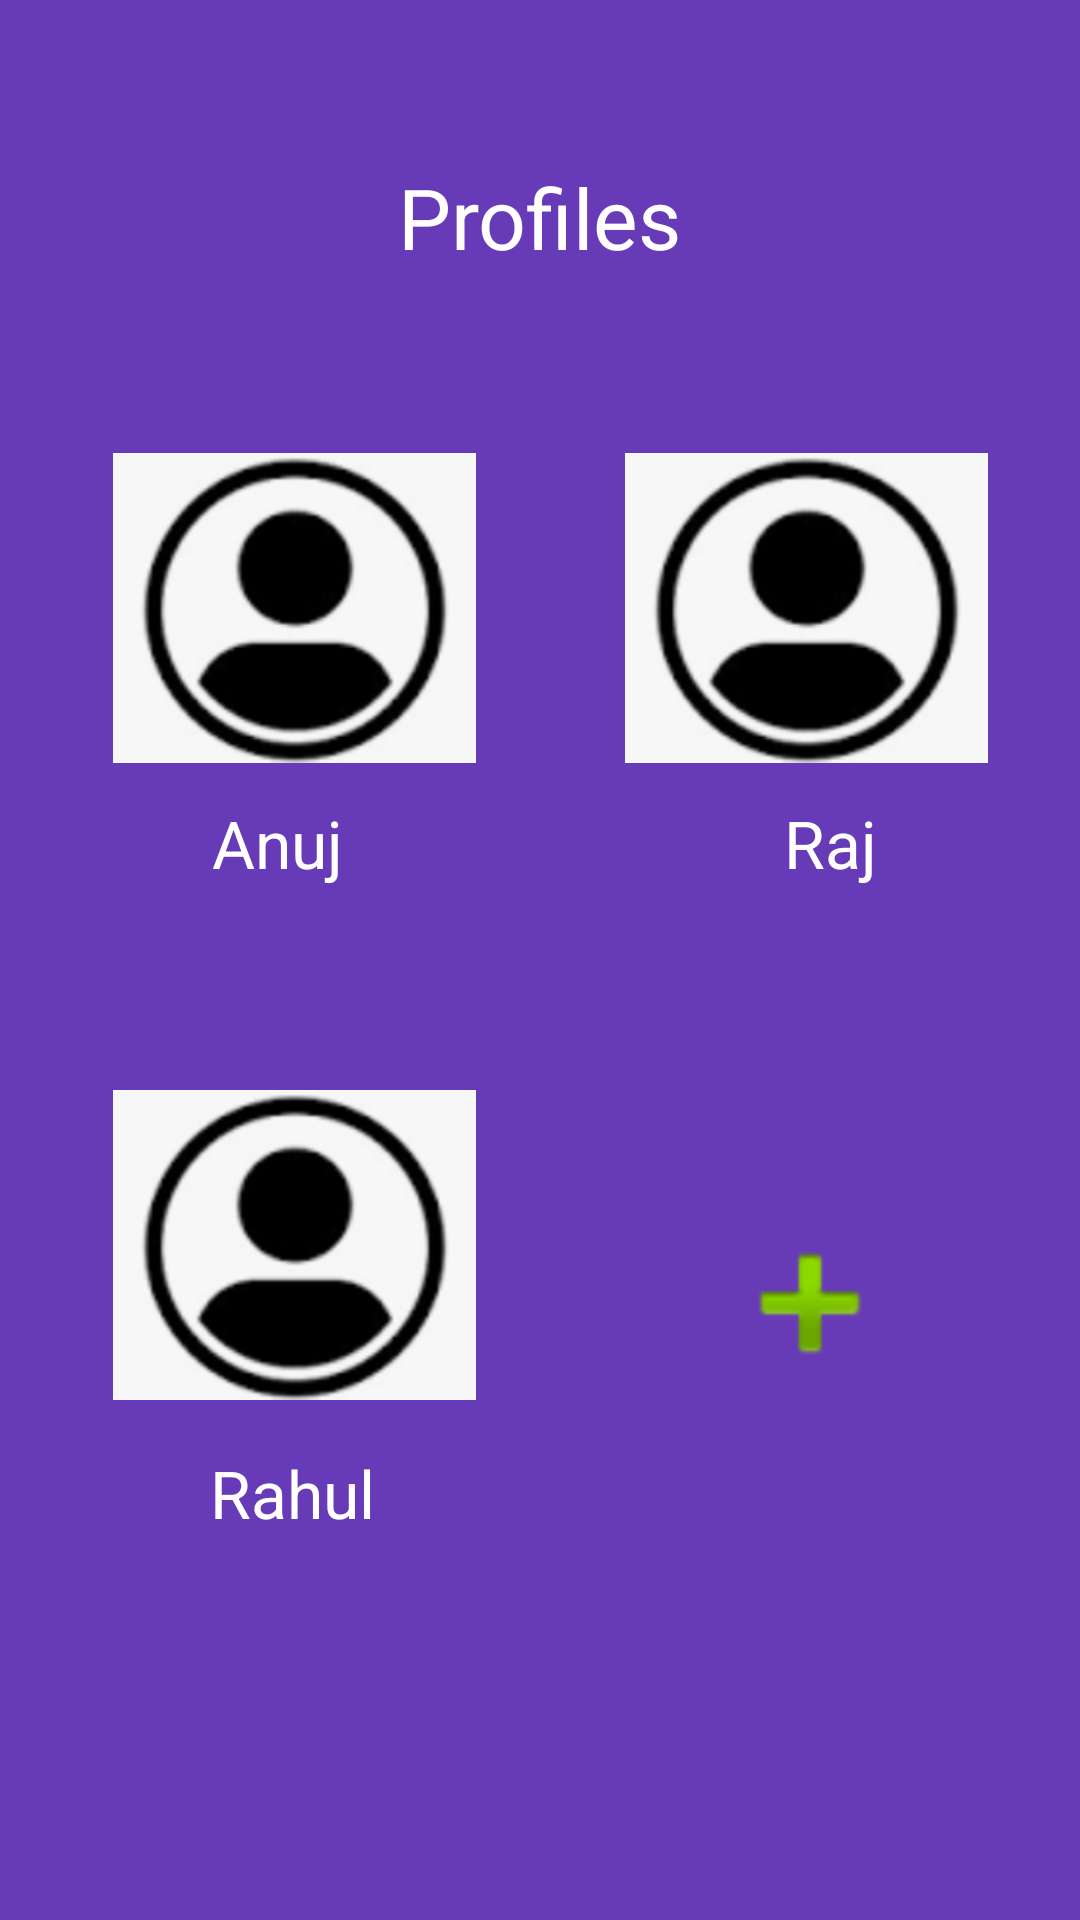

Where to tap for icons on this 1080 × 1920 app screen, as [x,y]:
add: [810,1303]
